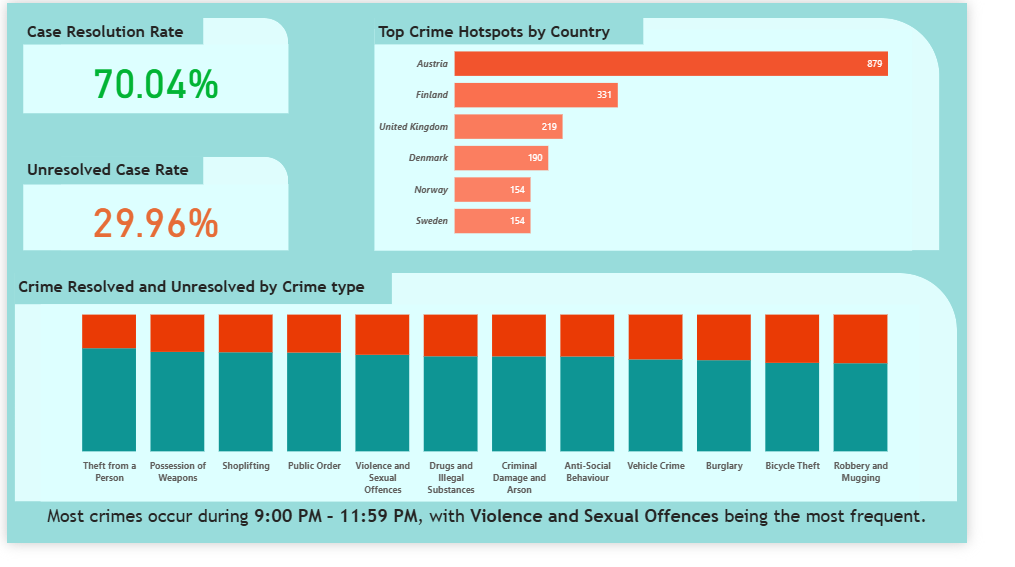

Layout of this report page (visuals, bound fields, positions):
{"tool":"powerbi","page":{"name":"Insights","canvas":[1280,720],"ordinal":2},"visuals":[{"type":"shape","box":[389.9,59.4,878.3,289.9],"z":0},{"type":"shape","box":[11.7,360,1256.7,305],"z":1000},{"type":"textbox","box":[10,360,503.3,41.7],"z":2000},{"type":"columnChart","fields":{"Category":["Crime Types.Crime"],"Y":["Calculations.Crime Resolved","Calculations.Crime Unresolved"]},"box":[11.7,401.7,1231.7,263.3],"z":3000},{"type":"barChart","fields":{"Category":["Crime Data.Country"],"Y":["CountNonNull(Crime Data.Crime ID)"]},"box":[389.9,82.6,824.6,266.7],"z":4000},{"type":"textbox","box":[376.8,59.4,355.1,42],"z":5000},{"type":"shape","box":[72.5,82.6,304.3,126.1],"z":6000},{"type":"shape","box":[71,215.9,304.3,114.5],"z":7000},{"type":"card","fields":{"Values":["Calculations.Crime Unresolved"]},"box":[10.1,242,365.2,107.2],"z":8000},{"type":"card","fields":{"Values":["Calculations.Crime Resolved"]},"box":[11.6,101.4,365.2,107.2],"z":9000},{"type":"textbox","box":[11.6,82.6,250.7,34.8],"z":10000},{"type":"textbox","box":[10.1,215.9,252.2,40.6],"z":11000},{"type":"textbox","box":[0,665,1280,55],"z":12000},{"type":"slicer","fields":{"Values":["Crime Data.Country"]},"box":[502.9,8.7,300,44.9],"z":13000},{"type":"slicer","fields":{"Values":["Crime Types.Crime"]},"box":[104.3,8.7,300,55.1],"z":14000},{"type":"textbox","box":[29,18.8,89.9,34.8],"z":15000},{"type":"textbox","box":[404.3,18.8,113,34.8],"z":16000},{"type":"pageNavigator","box":[841.2,8.2,426.8,45.3],"z":17000}]}

Visuals, with their boxes in screenshot pixels (x1, y1, x2, y2), scaled from the page's 1280x720 canvas onto the 1015x567 screenshot:
shape: crop(309, 47, 1006, 275)
shape: crop(9, 284, 1006, 524)
textbox: crop(8, 284, 407, 316)
columnChart - Crime Types.Crime x Calculations.Crime Resolved: crop(9, 316, 986, 524)
barChart - Crime Data.Country x CountNonNull(Crime Data.Crime ID): crop(309, 65, 963, 275)
textbox: crop(299, 47, 580, 80)
shape: crop(57, 65, 299, 164)
shape: crop(56, 170, 298, 260)
card - Calculations.Crime Unresolved: crop(8, 191, 298, 275)
card - Calculations.Crime Resolved: crop(9, 80, 299, 164)
textbox: crop(9, 65, 208, 92)
textbox: crop(8, 170, 208, 202)
textbox: crop(0, 524, 1014, 566)
slicer - Crime Data.Country: crop(399, 7, 637, 42)
slicer - Crime Types.Crime: crop(83, 7, 321, 50)
textbox: crop(23, 15, 94, 42)
textbox: crop(321, 15, 410, 42)
pageNavigator: crop(667, 6, 1005, 42)
